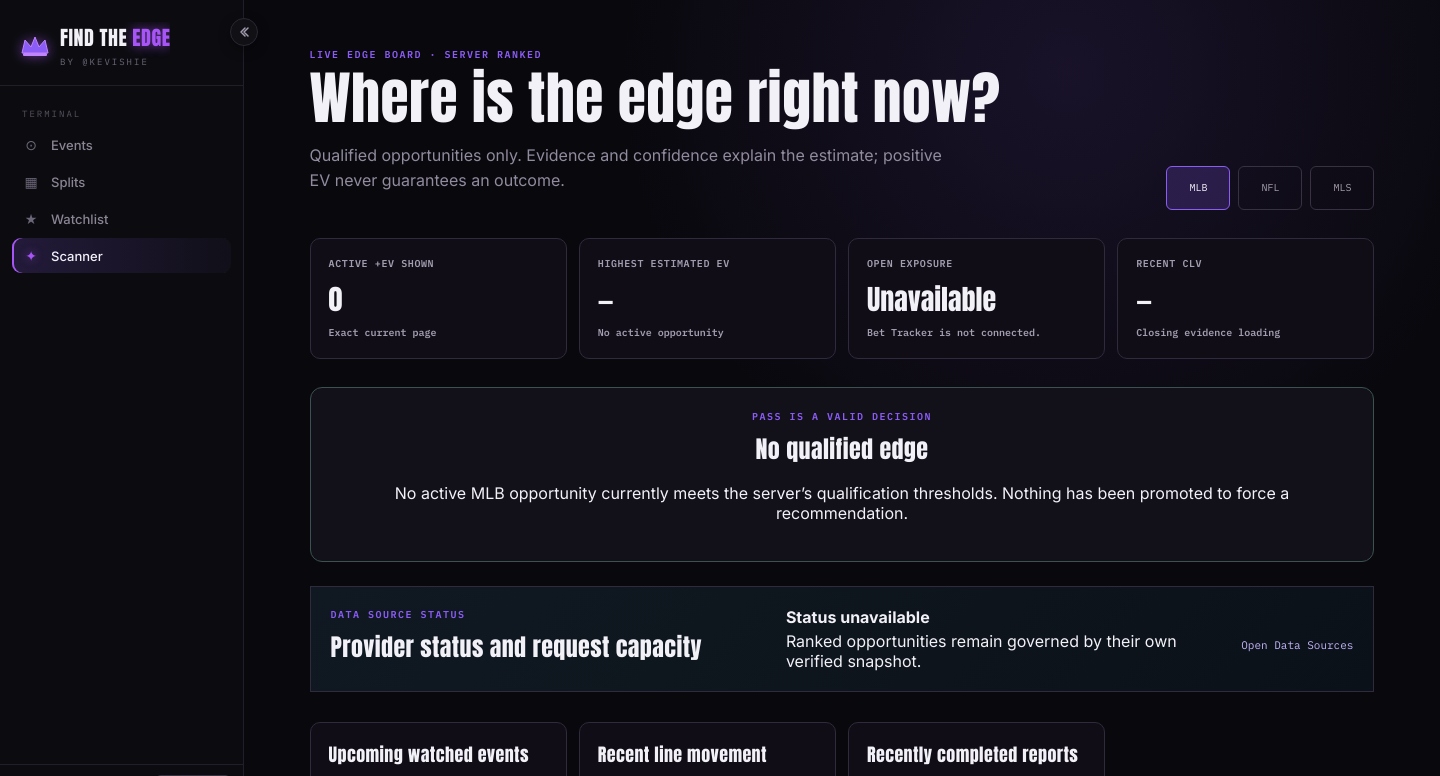
Test case: Dashboard › shows empty and explicit incomplete lower-bound states
The width and height of the screenshot is (1440, 776).
Expected: the heading "No qualified edge" is shown, [756, 431, 928, 467]
What coordinates should you click on to do the following:
click the button "MLS"
I would click on:
 (1342, 188)
Its box is [1310, 166, 1374, 210].
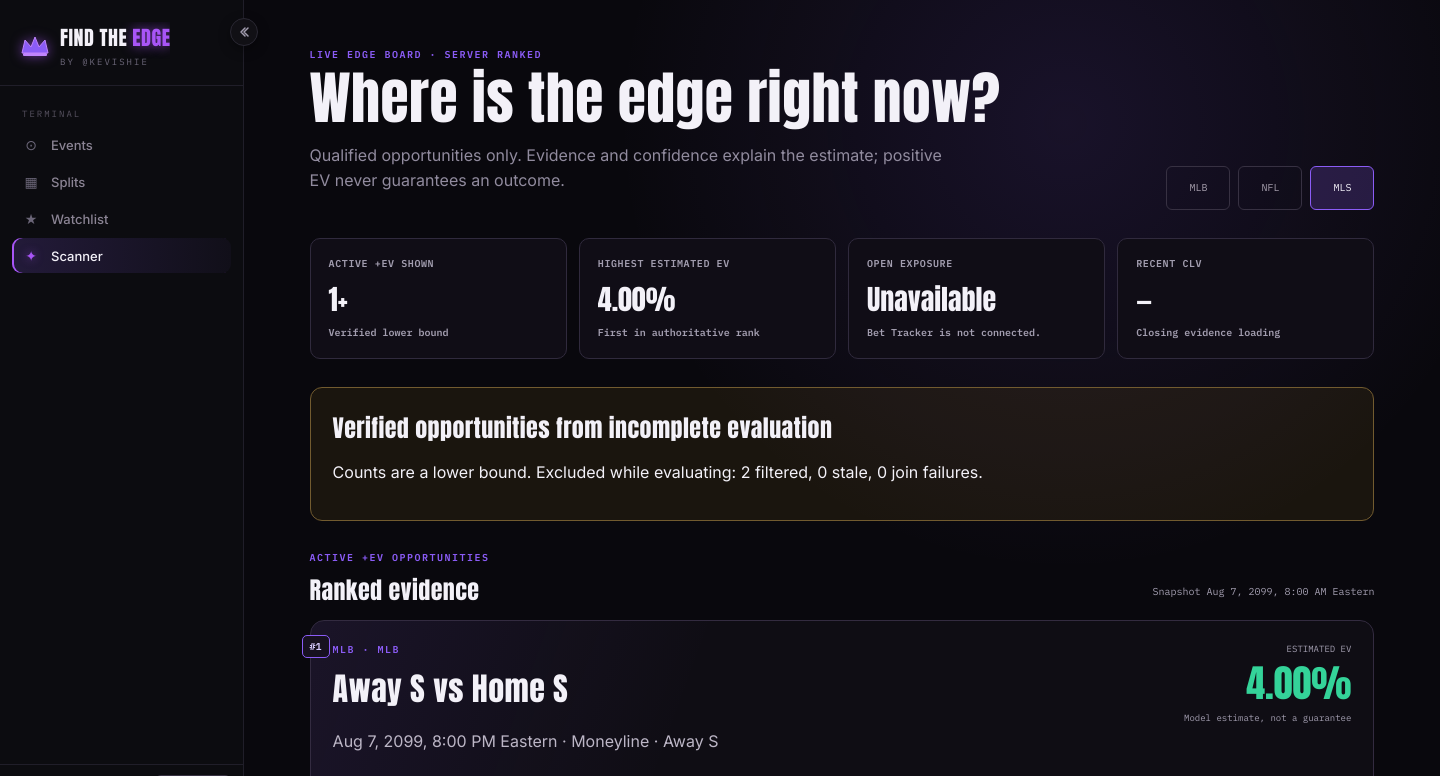
Now the heading "Verified opportunities from incomplete evaluation" is shown, box [333, 410, 832, 446]
Now the text "1+" is shown, box [329, 278, 348, 320]
Now the text "Verified lower bound" is shown, box [329, 326, 449, 339]
